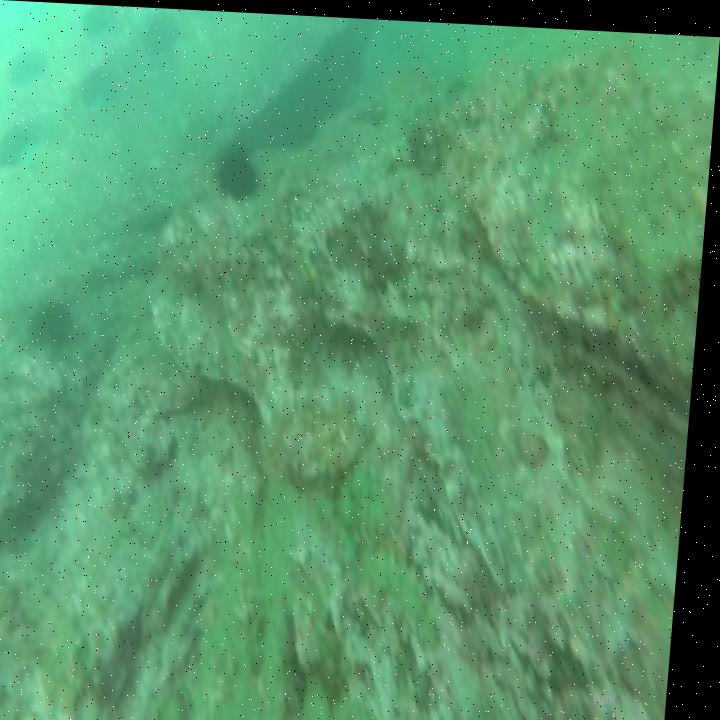echinus: (28, 290, 86, 351), (216, 137, 266, 205)
holothurian: (373, 539, 453, 647), (345, 465, 396, 531)
